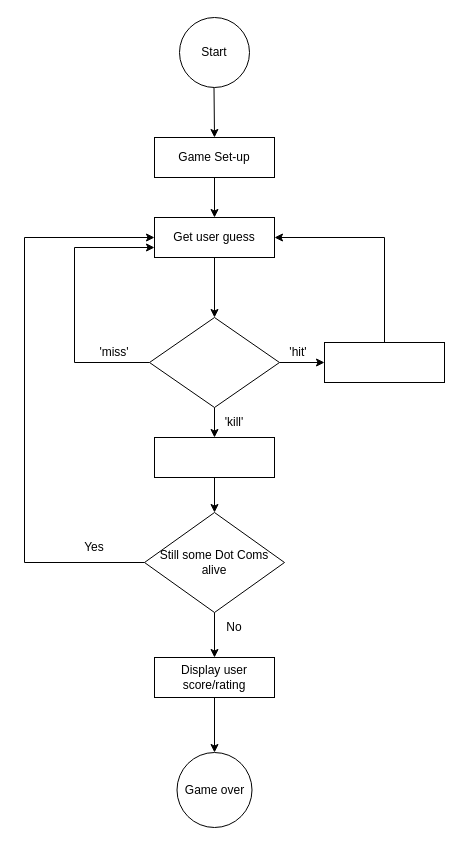
Image size: 462x845. Some labels were removed from this diagram. Here are the shapes that lost their labels. From the top down, the box of each, then its label:
(148, 316, 280, 408): Check guess
(324, 342, 444, 382): Remove location cell
(154, 436, 274, 478): Remove Dot Com
